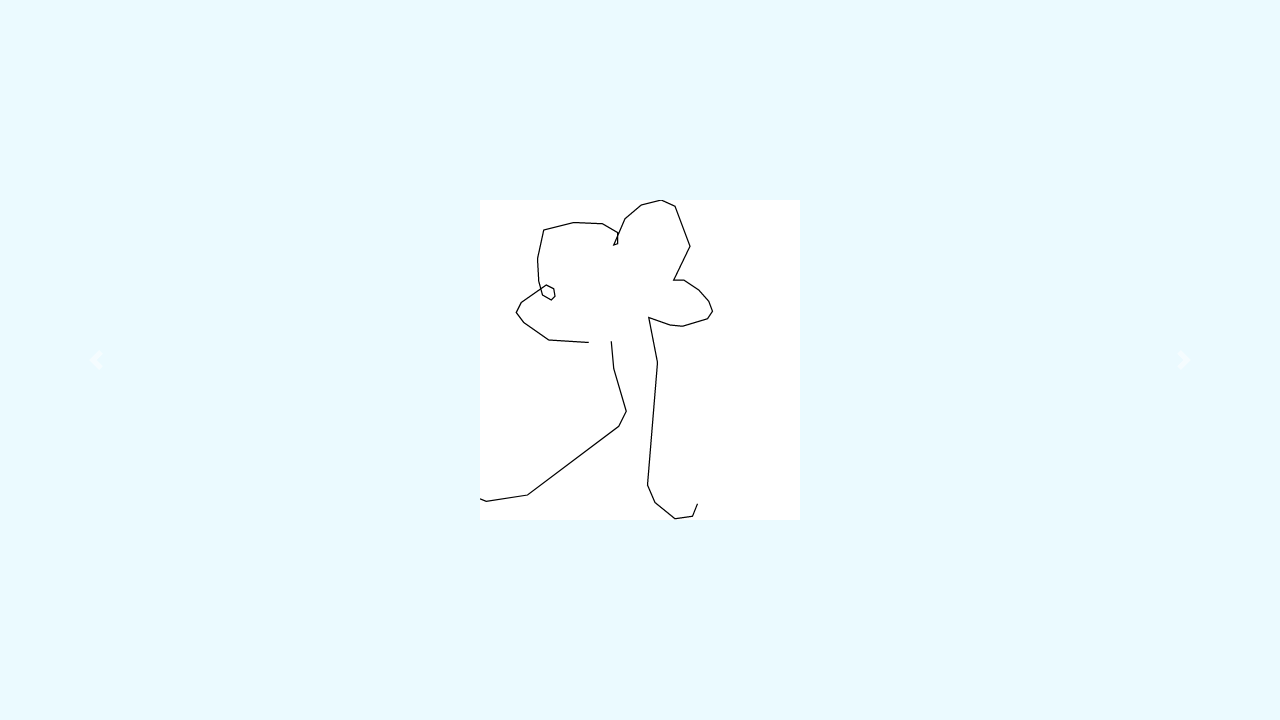tree: (473, 194, 719, 530)
